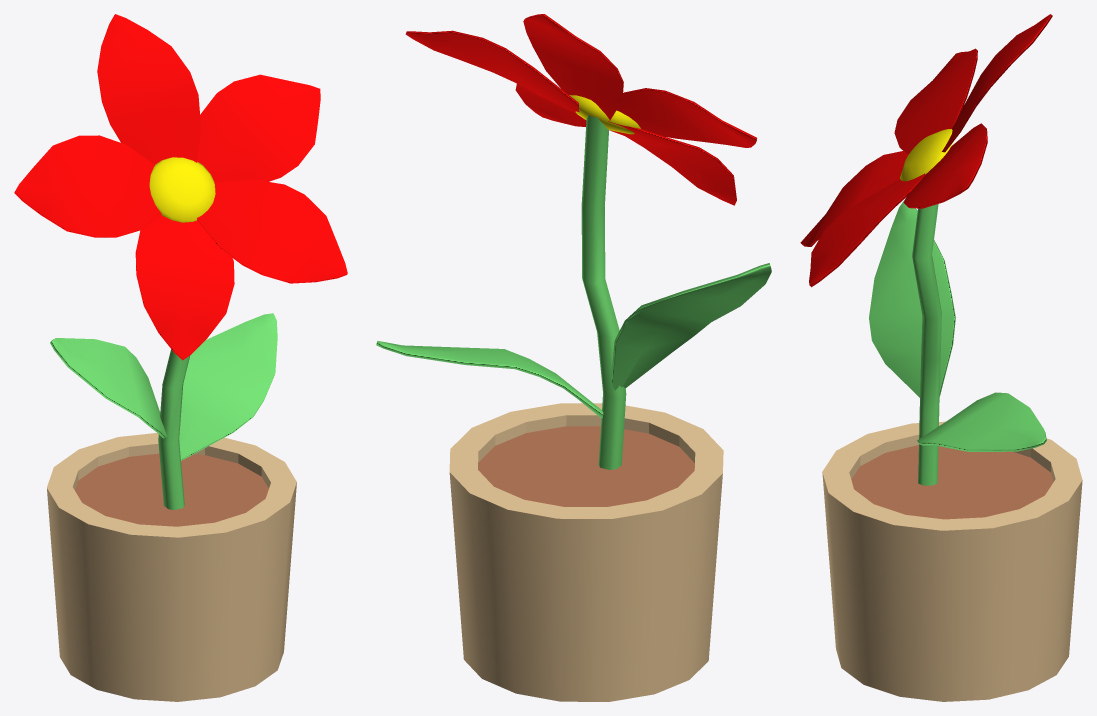
The model's file is tree_01.fbx.
3 views of the same model, side by side, from view 1: azimuth 30°, elevation 25°; view 2: azimuth 150°, elevation 25°; view 3: azimuth 270°, elevation 25° (orthographic). The views are drawn at different scales.
Visible parts, largest first — view 1: tree_01; view 2: tree_01; view 3: tree_01.
Part boxes in pixels (x1,y1,x2,y2): tree_01: (14, 14, 347, 701); tree_01: (376, 14, 771, 701); tree_01: (800, 14, 1082, 701).
Size of the model in its own units: 7.53 by 14.12 by 5.69.
1 material, 1 textured.
